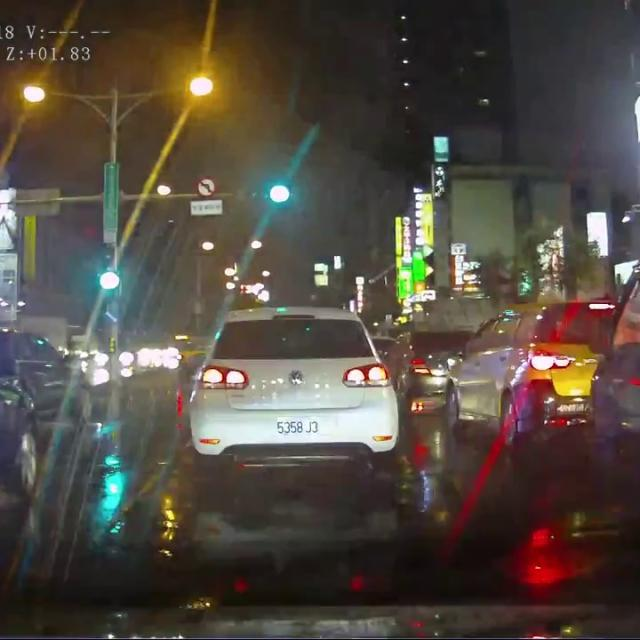Car: (184, 303, 399, 463), (437, 290, 612, 443), (0, 332, 100, 495), (393, 331, 467, 412)
